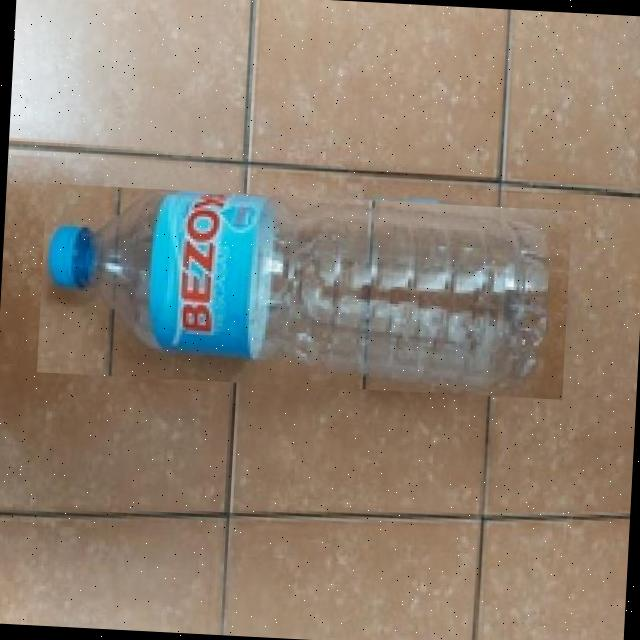bottle: (37, 183, 572, 400)
cap: (41, 214, 107, 302)
label: (151, 180, 278, 374)
